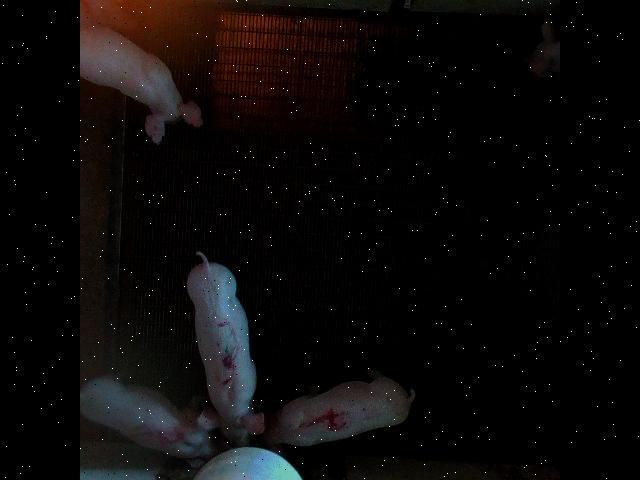pig-3: (187, 250, 265, 445)
pig-4: (263, 369, 415, 445)
pig-5: (81, 376, 225, 458)
